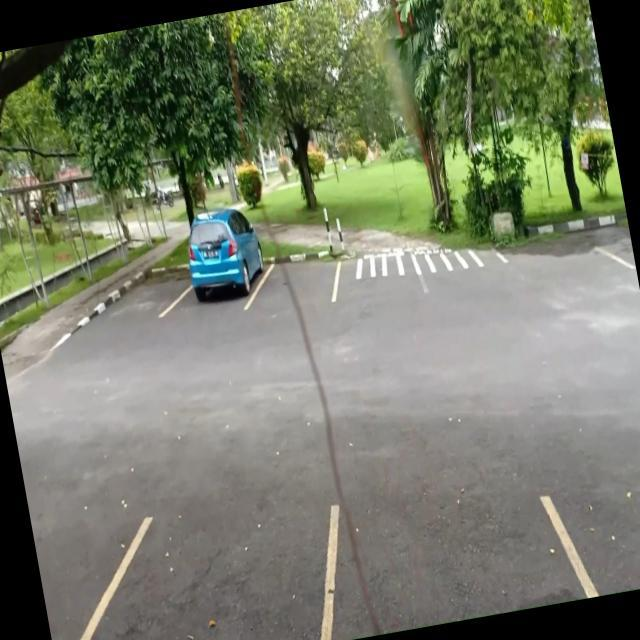empty: (308, 431, 581, 640), (74, 463, 340, 640), (255, 233, 342, 314)
occupied: (176, 235, 272, 318)
